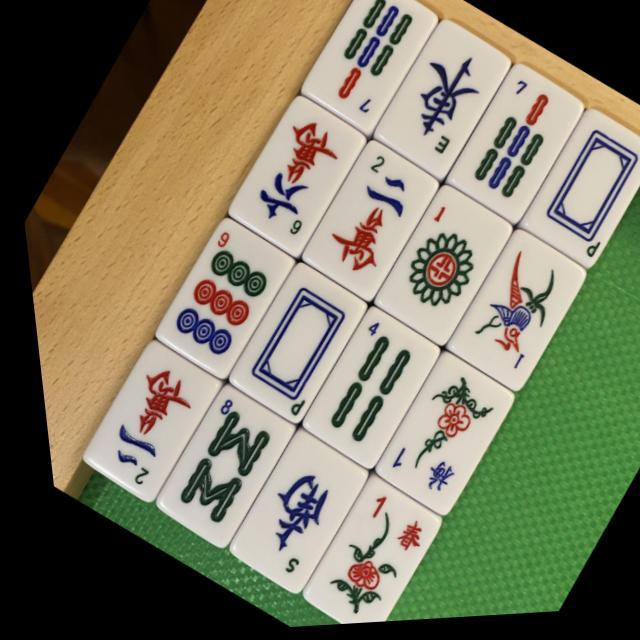bf1: (353, 356, 512, 518)
bs1: (271, 478, 437, 630)
hdw: (501, 115, 640, 282), (214, 268, 360, 422)
hwe: (366, 26, 514, 182)
hws: (207, 432, 363, 596)
sb1: (430, 228, 590, 398)
sb4: (287, 314, 433, 466)
sb7: (285, 0, 449, 142), (438, 72, 587, 226)
sb8: (140, 389, 286, 544)
sc2: (66, 340, 216, 500), (291, 144, 441, 302)
sc6: (208, 98, 370, 268)
sd1: (362, 191, 512, 347)
sd9: (137, 217, 290, 377)
